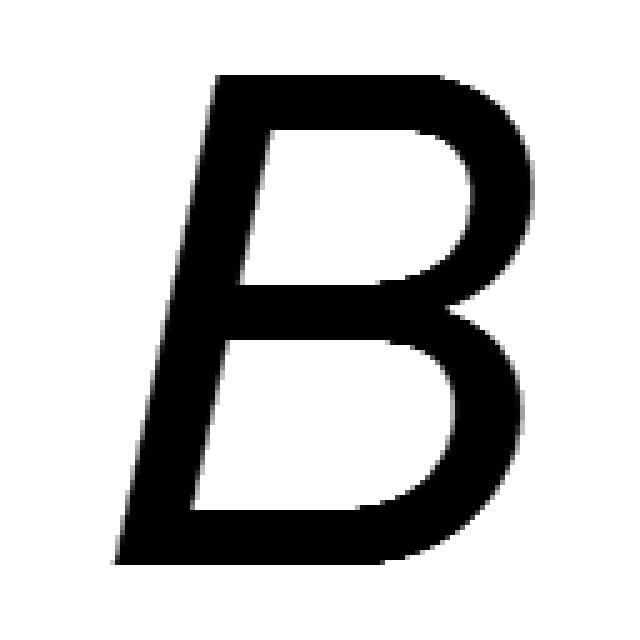B: (115, 75, 535, 570)
